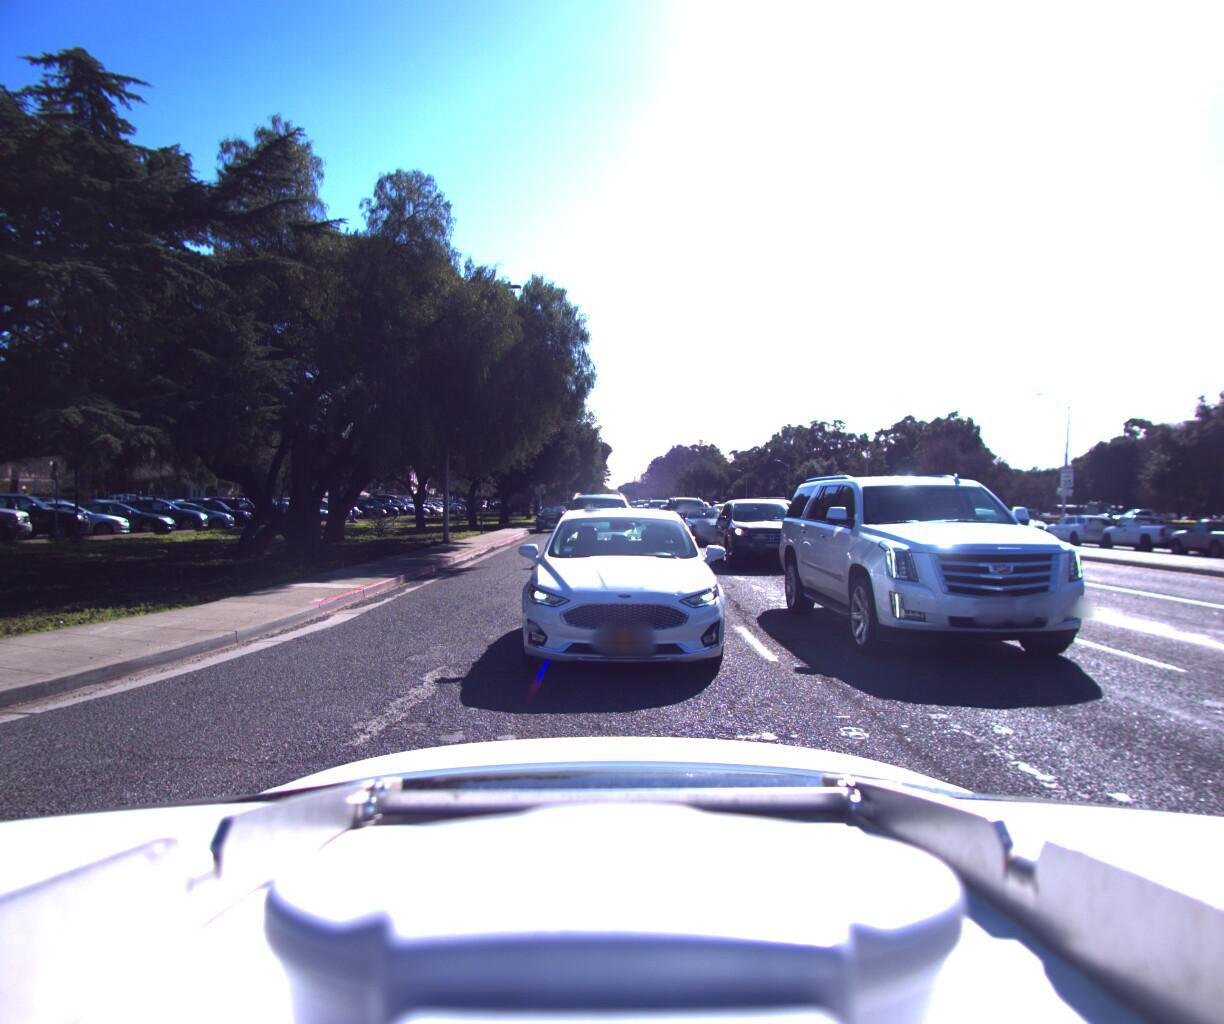car: (782, 450, 1151, 689), (515, 494, 753, 688), (709, 498, 813, 573), (1094, 509, 1209, 555), (556, 496, 639, 557), (1038, 509, 1122, 545), (1162, 513, 1224, 560), (674, 505, 736, 548), (659, 494, 707, 537), (993, 514, 1057, 541), (531, 503, 573, 532)
